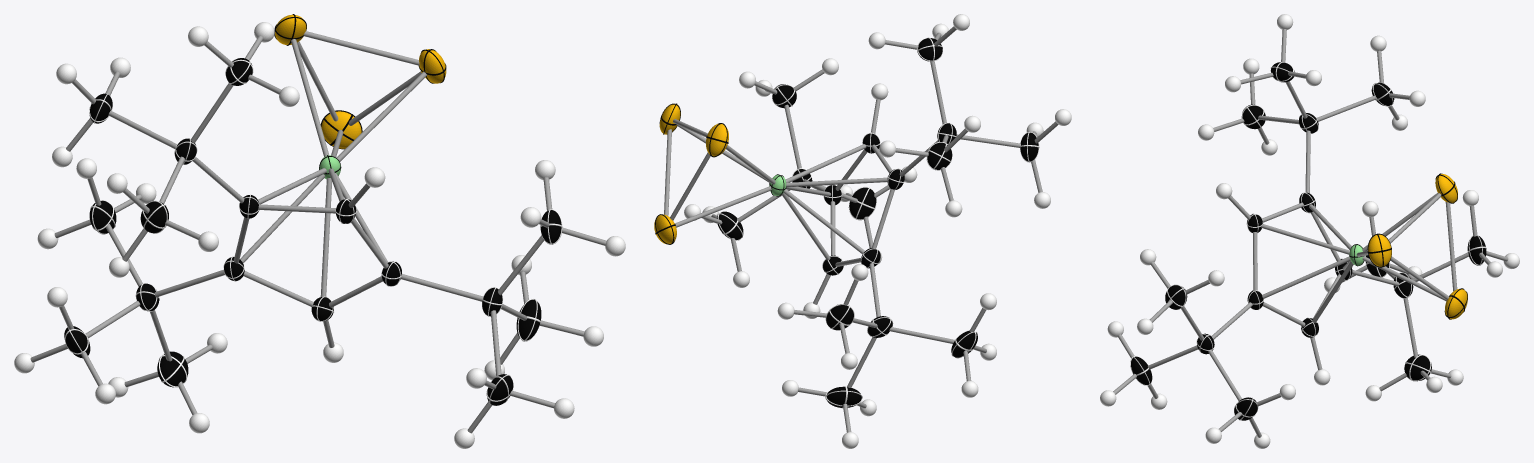
Rendered from structure.glb.
3 views of the same model, side by side, from view 1: azimuth 30°, elevation 25°; view 2: azimuth 150°, elevation 25°; view 3: azimuth 270°, elevation 25° (orthographic). The views are drawn at different scales.
Visible parts, largest first — view 1: P3, C00J, bond_Ni01_P2, bond_P2_P1, bond_Ni01_P1, C00K, bond_Ni01_C008, bond_Ni01_C00A, P2, P1, C00G, C00F; view 2: C00I, P2, C00J, bond_Ni01_C009, bond_Ni01_P3, bond_Ni01_C00A, C00F, P3, C00K, C00H, C00L, bond_Ni01_C007 (+4 smaller); view 3: P1, C00J, P3, bond_Ni01_C005, P2, bond_Ni01_C007, bond_P2_P3.
Part boxes in pixels (x1=…): P3: x1=321, y1=111, x2=361, y2=148; C00J: x1=157, y1=351, x2=188, y2=387; bond_Ni01_P2: x1=291, y1=39, x2=328, y2=156; bond_P2_P1: x1=303, y1=31, x2=419, y2=65; bond_Ni01_P1: x1=336, y1=71, x2=427, y2=161; C00K: x1=516, y1=299, x2=541, y2=340; bond_Ni01_C008: x1=320, y1=178, x2=332, y2=296; bond_Ni01_C00A: x1=240, y1=174, x2=325, y2=262; P2: x1=275, y1=14, x2=306, y2=44; P1: x1=419, y1=49, x2=446, y2=83; C00G: x1=140, y1=201, x2=168, y2=233; C00F: x1=89, y1=200, x2=116, y2=233; C00I: x1=849, y1=187, x2=876, y2=219; P2: x1=706, y1=123, x2=728, y2=156; C00J: x1=826, y1=386, x2=861, y2=407; bond_Ni01_C009: x1=786, y1=177, x2=887, y2=187; bond_Ni01_P3: x1=675, y1=186, x2=771, y2=227; bond_Ni01_C00A: x1=783, y1=189, x2=864, y2=254; C00F: x1=826, y1=304, x2=853, y2=330; P3: x1=654, y1=214, x2=676, y2=244; C00K: x1=717, y1=211, x2=743, y2=239; C00H: x1=927, y1=142, x2=952, y2=169; C00L: x1=951, y1=330, x2=977, y2=357; bond_Ni01_C007: x1=785, y1=144, x2=866, y2=182; P1: x1=1368, y1=234, x2=1391, y2=266; C00J: x1=1404, y1=354, x2=1431, y2=381; P3: x1=1445, y1=288, x2=1467, y2=319; bond_Ni01_C005: x1=1262, y1=256, x2=1350, y2=298; P2: x1=1435, y1=174, x2=1457, y2=202; bond_Ni01_C007: x1=1261, y1=223, x2=1349, y2=254; bond_P2_P3: x1=1445, y1=202, x2=1457, y2=291.
Size of the model in its own units: 7.89 by 7.37 by 7.71.
